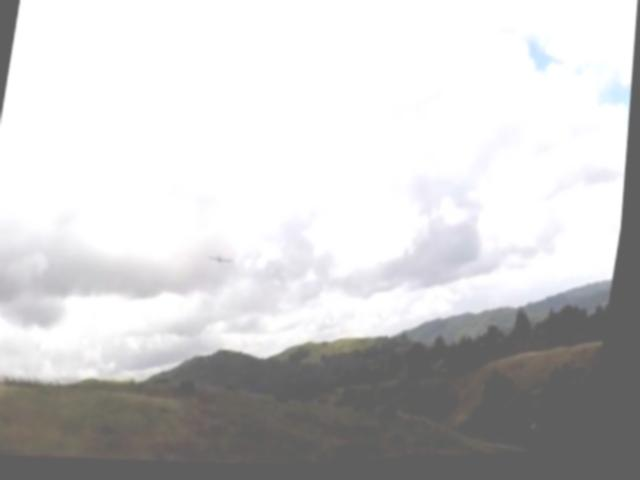iha: (211, 253, 239, 270)
